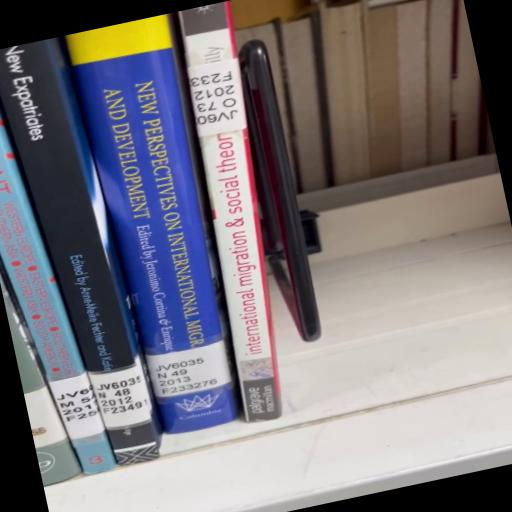reverse: (179, 1, 320, 423)
